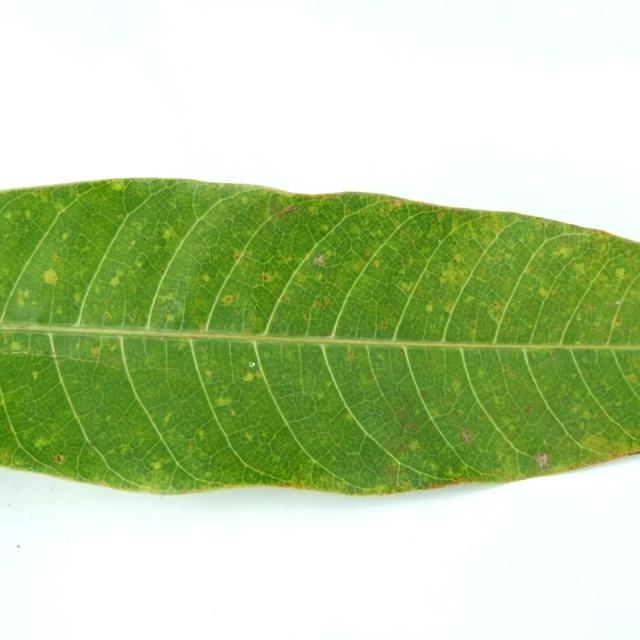Mango: (0, 179, 639, 493)
Powdery_Mildew: (385, 197, 457, 214), (40, 261, 71, 295), (142, 454, 178, 477), (84, 344, 114, 364), (208, 396, 243, 413), (551, 242, 578, 263), (234, 372, 267, 388), (33, 429, 55, 452), (104, 271, 127, 292), (406, 433, 427, 456), (442, 298, 462, 320), (225, 248, 244, 269), (309, 251, 329, 270), (156, 226, 178, 243), (487, 307, 506, 325), (222, 290, 239, 310), (607, 266, 628, 282), (607, 313, 625, 331), (108, 181, 127, 197), (15, 288, 31, 306), (441, 268, 460, 283), (277, 205, 296, 219), (535, 288, 555, 299), (157, 292, 175, 303), (399, 281, 414, 292), (315, 222, 331, 232), (119, 445, 133, 456), (174, 487, 196, 494), (37, 192, 49, 203), (163, 413, 173, 426), (594, 229, 610, 237), (10, 341, 22, 351), (391, 199, 404, 208), (262, 272, 273, 282), (196, 428, 205, 440), (51, 253, 63, 262), (244, 431, 254, 441), (128, 312, 138, 322), (4, 212, 14, 222), (372, 229, 383, 238), (585, 303, 596, 312), (281, 481, 295, 488), (317, 193, 336, 198), (351, 262, 361, 271), (454, 254, 463, 263), (166, 313, 175, 322), (1, 451, 10, 460), (283, 256, 293, 264), (425, 303, 433, 312), (134, 260, 143, 268), (61, 232, 70, 240), (201, 274, 210, 282), (24, 210, 32, 219), (204, 370, 213, 378), (31, 371, 39, 380), (314, 301, 322, 309), (373, 259, 380, 268), (103, 312, 111, 319), (302, 313, 310, 320), (554, 324, 562, 331), (201, 346, 209, 353), (139, 236, 147, 242), (493, 302, 500, 308), (381, 322, 388, 328), (197, 321, 204, 327), (160, 335, 167, 341), (248, 361, 255, 367), (88, 441, 94, 447), (379, 195, 386, 200), (615, 300, 622, 305), (160, 267, 165, 273), (5, 426, 10, 431), (19, 325, 25, 329), (79, 412, 84, 416)
